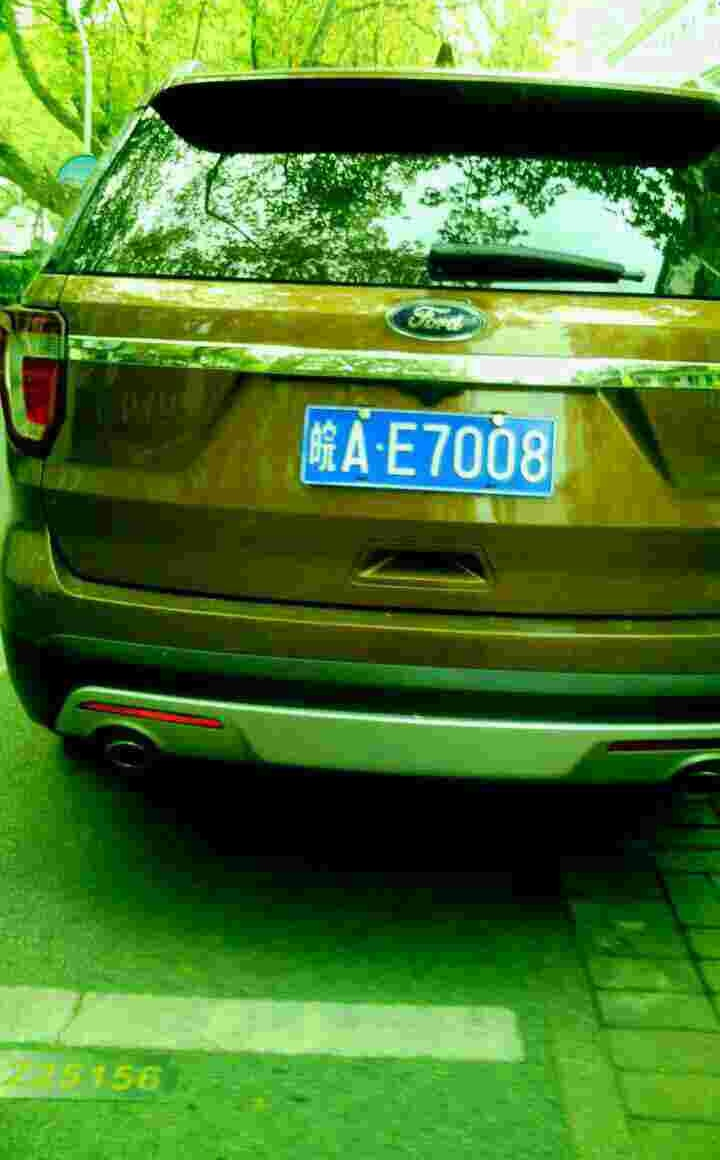license_plate: (303, 406, 554, 499)
